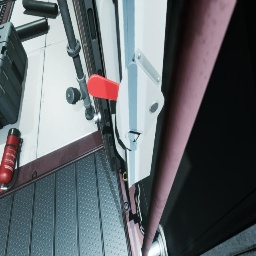FireExtinguisher ]: (0, 128, 23, 194)
SafetySwitchPanel ,: (87, 0, 172, 188)
